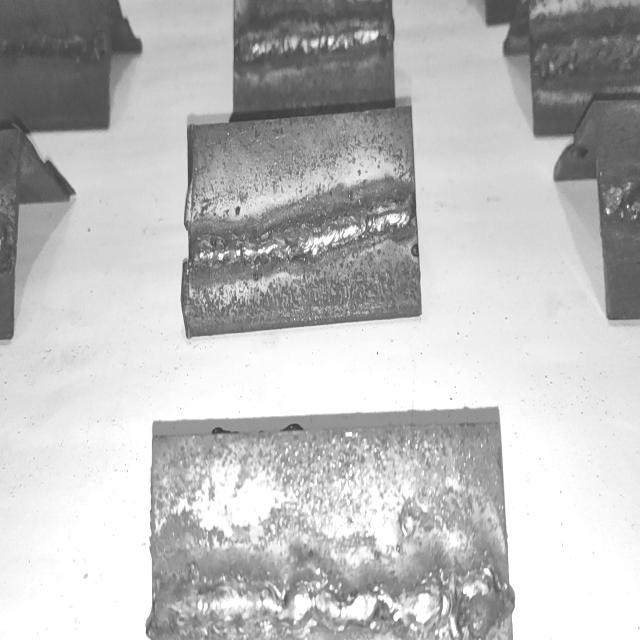Bad Weld: (156, 570, 509, 635), (190, 198, 416, 272)
Defect: (189, 229, 300, 272), (362, 575, 406, 633)
Good Weld: (236, 15, 392, 66), (536, 34, 640, 76), (0, 33, 110, 67)
